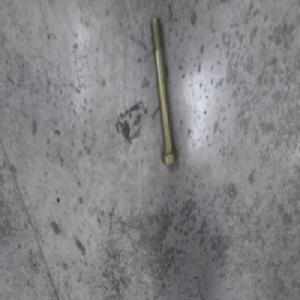Bolt: (149, 17, 178, 165)
